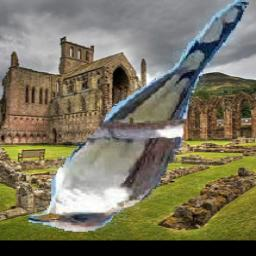Cuckoo: (30, 0, 250, 232)
